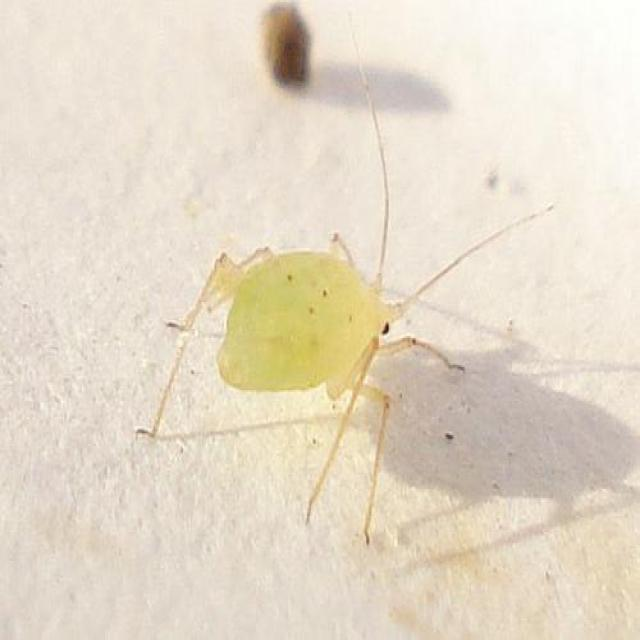aphid: (154, 91, 554, 554)
